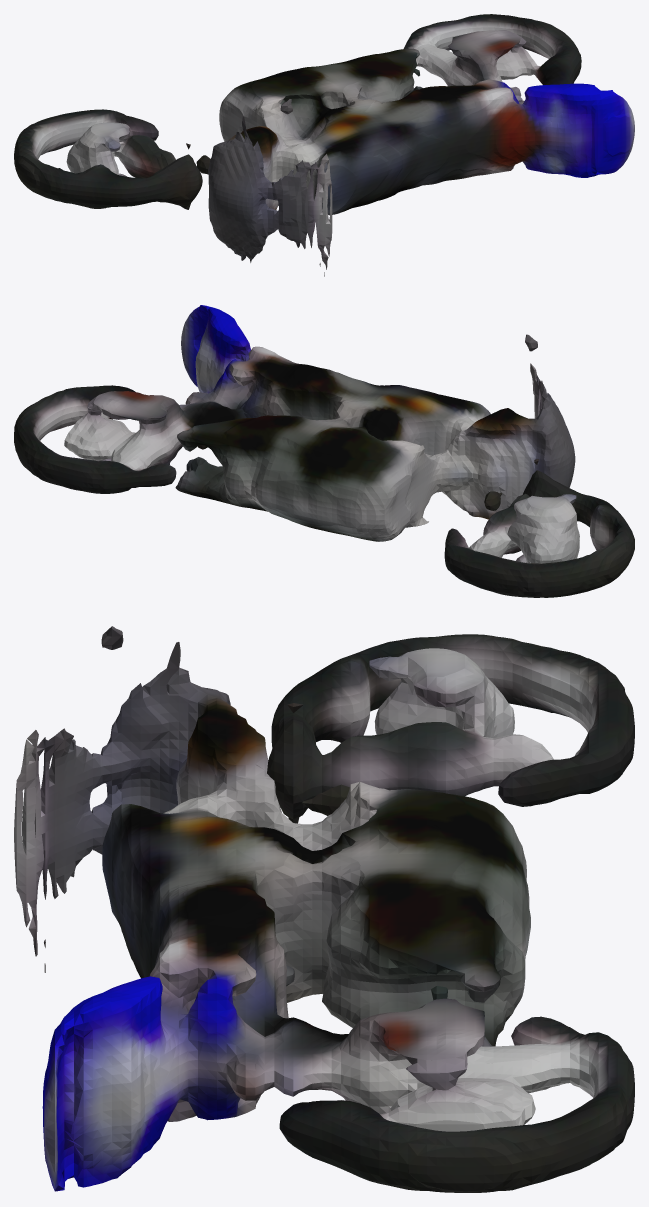
3 views of the same model, one above another, from view 1: azimuth 30°, elevation 25°; view 2: azimuth 150°, elevation 25°; view 3: azimuth 270°, elevation 25° (orthographic). The views are drawn at different scales.
Parts seen in each view (by area): view 1: cube_0.obj; view 2: cube_0.obj; view 3: cube_0.obj.
Part boxes in pixels (box(x1,y1,x2,y2)): cube_0.obj: box(14, 14, 634, 276); cube_0.obj: box(14, 305, 634, 597); cube_0.obj: box(14, 626, 634, 1192).
Size of the model in its own units: 1.98 by 0.5928 by 1.01.
